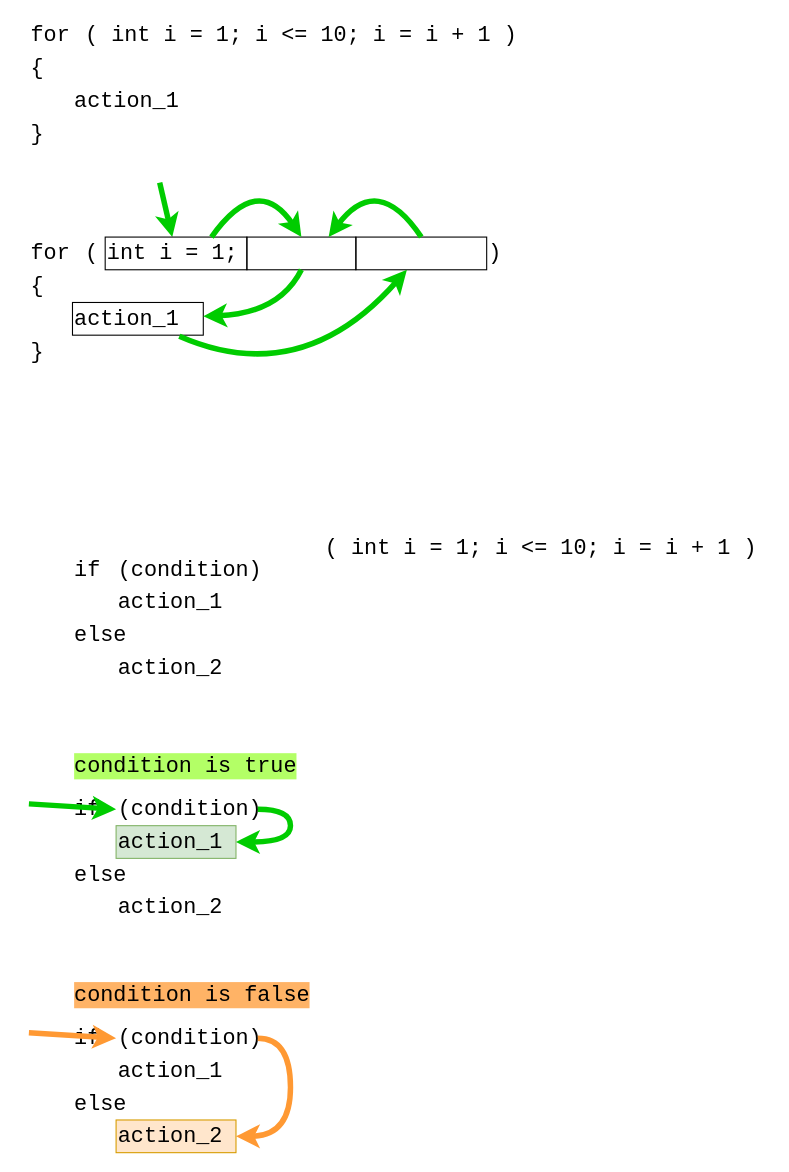
The diagram is 789 pixels wide and 1172 high, and some of its shapes have lost their labels. Here are the shapes that lost their labels. From the top down, the box of each, then its label:
(246, 236, 356, 270): i <= 10;
(355, 236, 487, 270): i = i + 1
